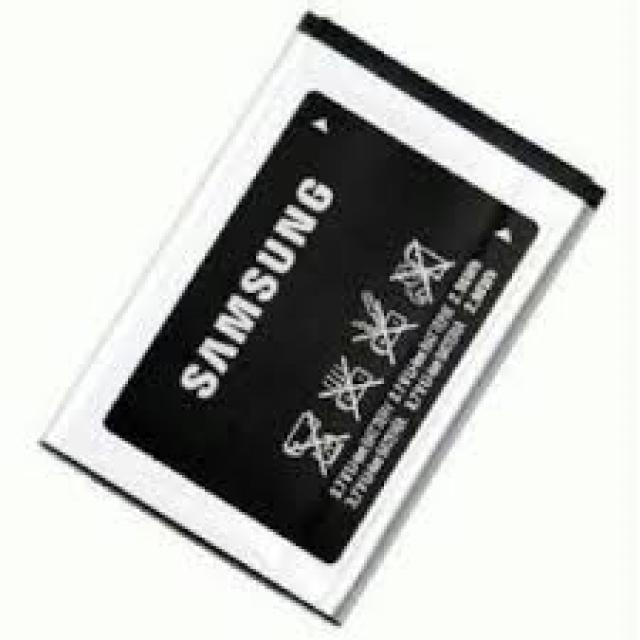battery: (42, 14, 612, 628)
